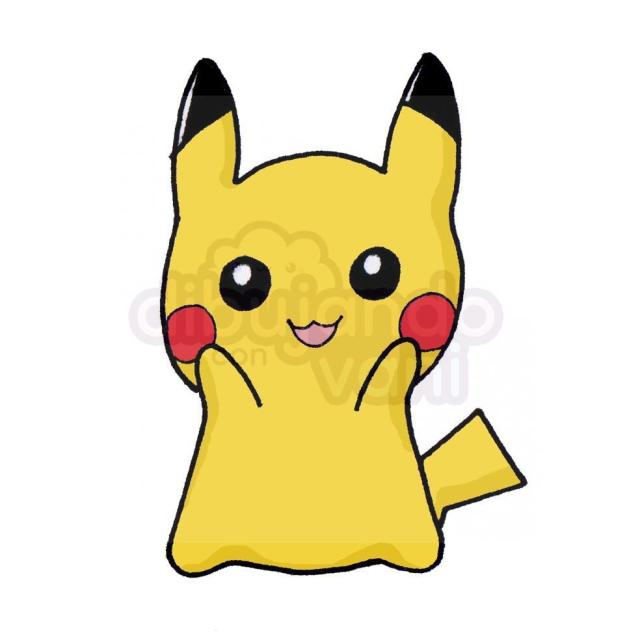pikachu: (156, 44, 533, 584)
